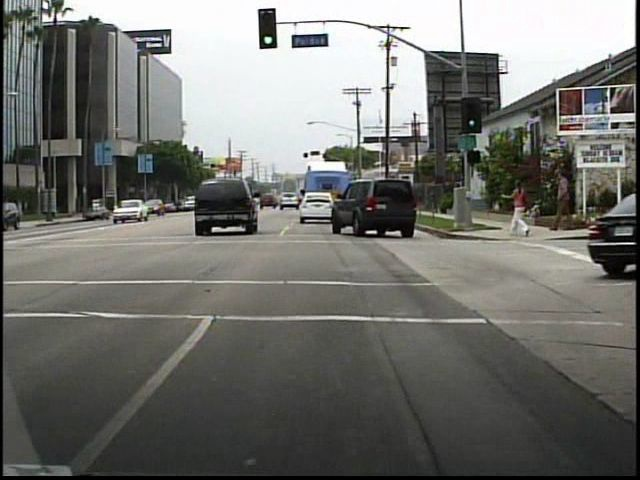person: (504, 174, 536, 244), (546, 168, 576, 232)
